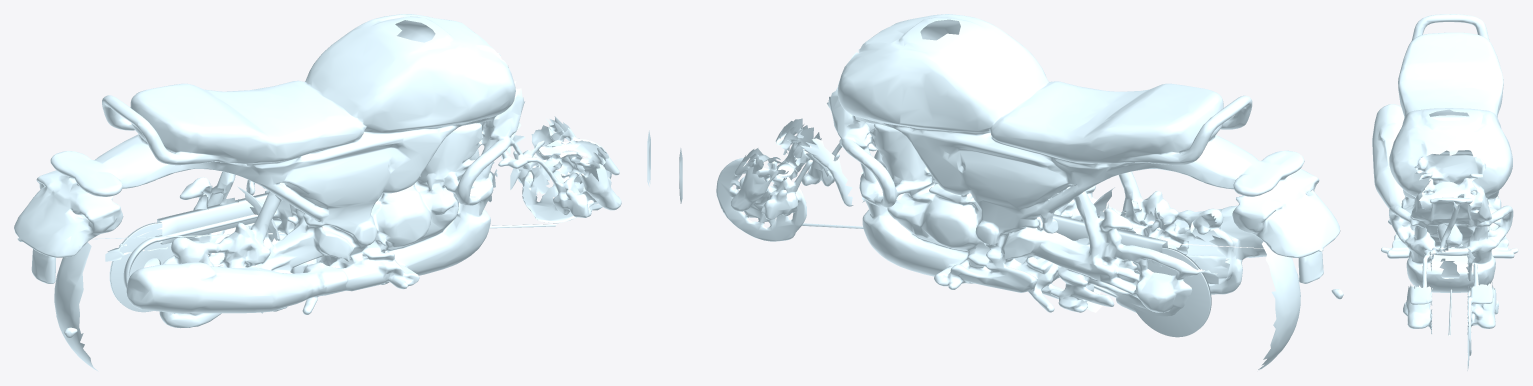
File: ronin-body.v1.glb
3 renders of one model, left to right at view 1: azimuth 30°, elevation 25°; view 2: azimuth 150°, elevation 25°; view 3: azimuth 270°, elevation 25°, orthographic. The views are drawn at different scales.
Parts seen in each view (by area): view 1: ronin-body; view 2: ronin-body; view 3: ronin-body.
Boxes of the visible parts, left/top/right/bottom form: ronin-body: left=14, top=14, right=650, bottom=371; ronin-body: left=679, top=14, right=1343, bottom=369; ronin-body: left=1372, top=14, right=1518, bottom=370.
Bounding box in the file's own units: 2.09 × 0.8164 × 0.5627.
